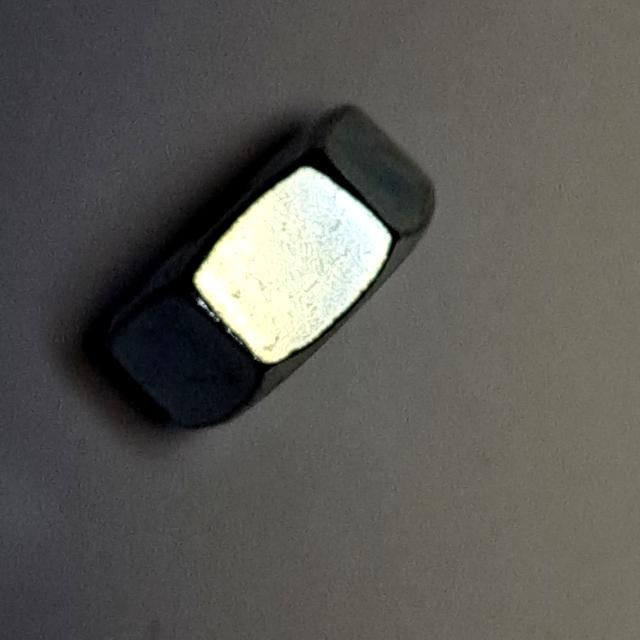Side_Excellent: (76, 81, 460, 446)
